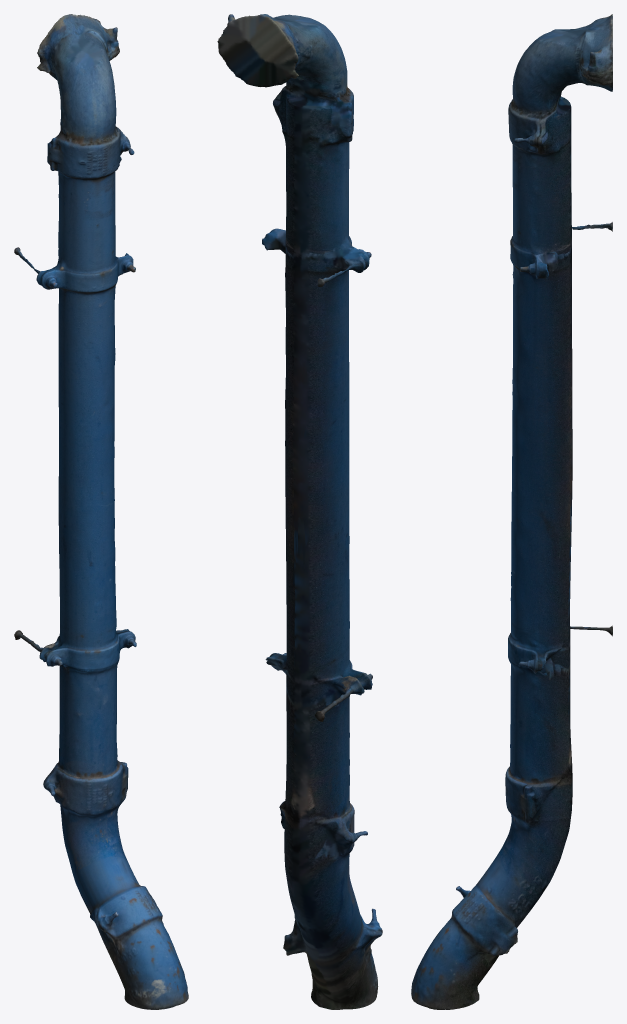
The model's file is pipe6_lowpoly.obj.
The picture shows the model from 3 angles, left to right: view 1: azimuth 30°, elevation 25°; view 2: azimuth 150°, elevation 25°; view 3: azimuth 270°, elevation 25°; orthographic projection. The views are drawn at different scales.
Parts seen in each view (by area): view 1: pipe6_lowpoly.001; view 2: pipe6_lowpoly.001; view 3: pipe6_lowpoly.001.
Part boxes in pixels (left/top/right/bottom): pipe6_lowpoly.001: left=14, top=14, right=188, bottom=1009; pipe6_lowpoly.001: left=217, top=14, right=382, bottom=1009; pipe6_lowpoly.001: left=411, top=14, right=612, bottom=1009.
Size of the model in its own units: 0.2676 by 2.31 by 0.4317.
1 material, 1 textured.
